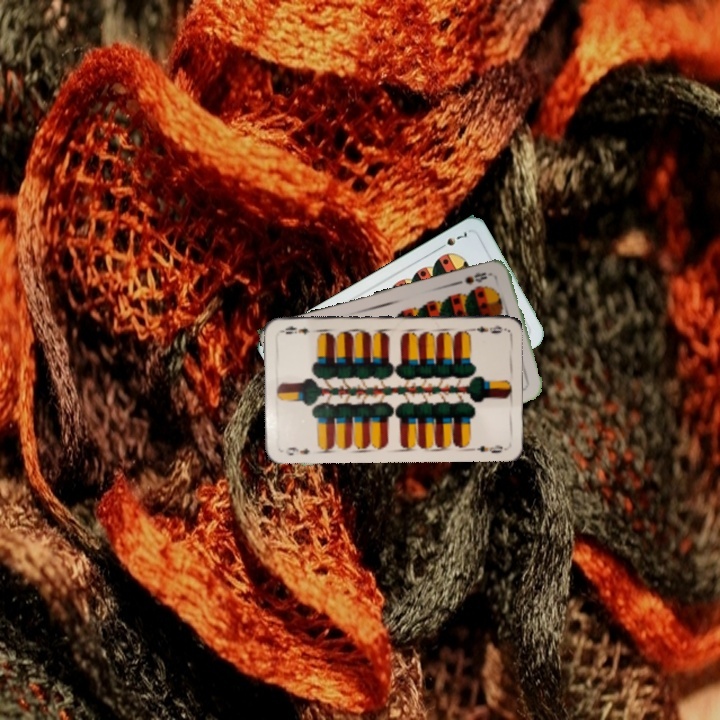E9: (466, 321, 507, 336), (281, 443, 312, 458)
S7: (434, 227, 472, 252)
S8: (461, 268, 495, 287)
